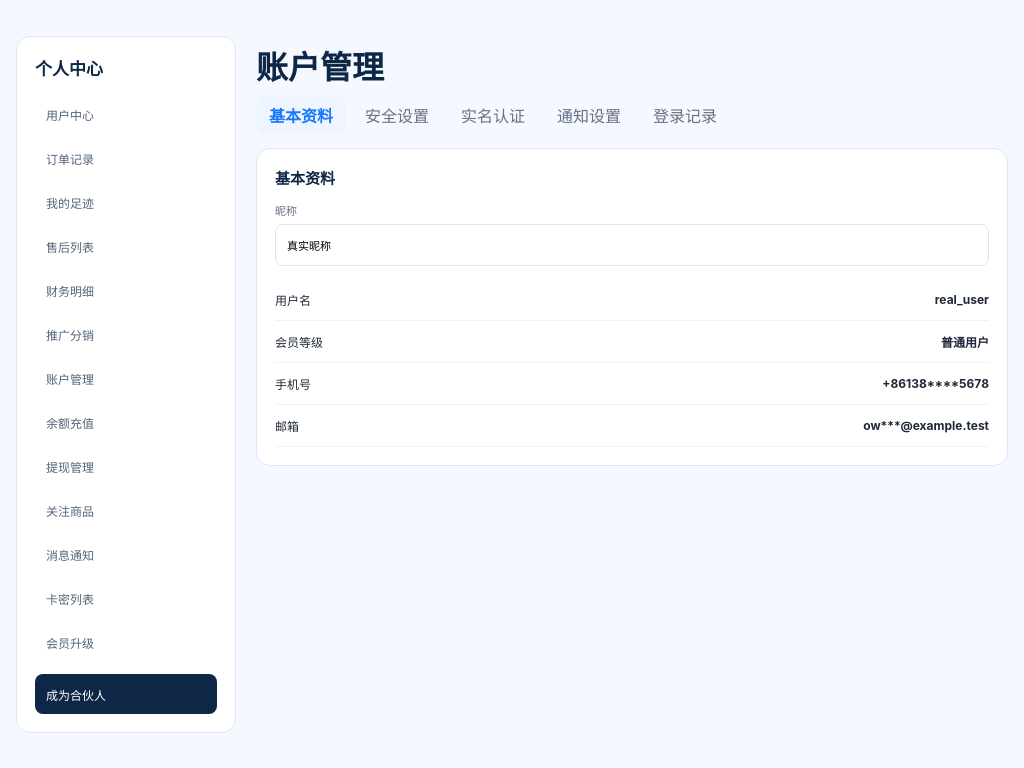
登录记录显示当前用户真实日志
Expected: the field showing "真实昵称" is shown, [275,224,989,266]
Click the button "登录记录". click: (685, 115)
box: [640,96,730,134]
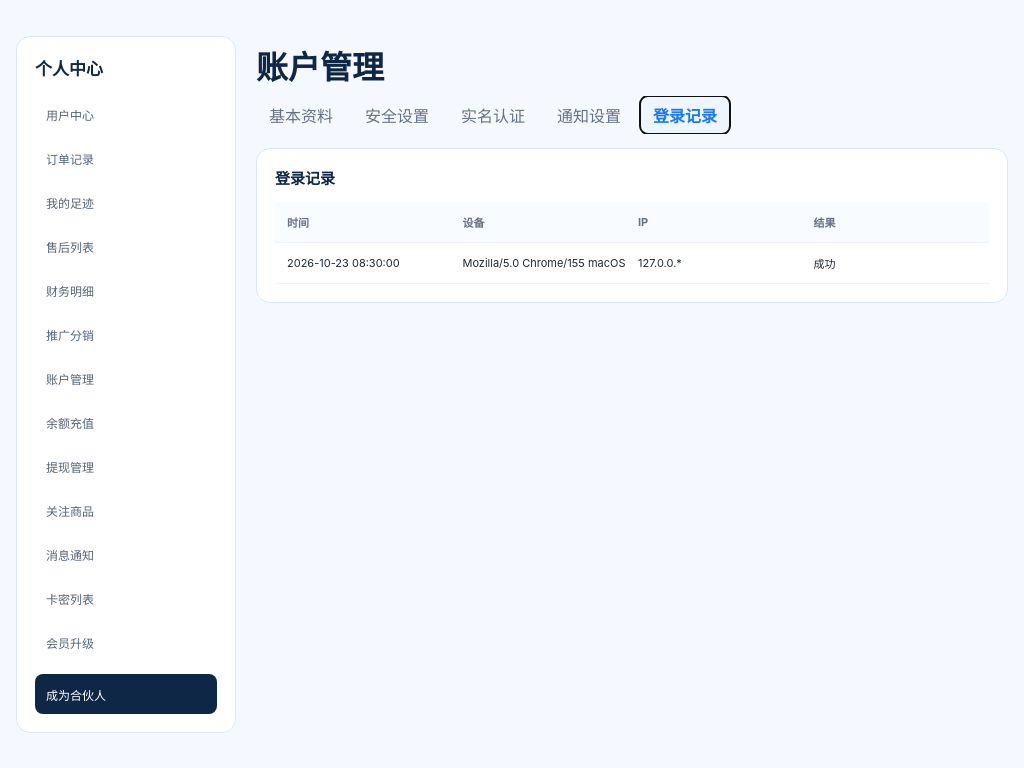
Result: the text "127.0.0.*" is shown at [638,256,682,270]
Result: the text "成功" is shown at [814,257,836,271]
Result: the text "Mozilla/5.0 Chrome/155 macOS" is shown at [462,256,626,270]
